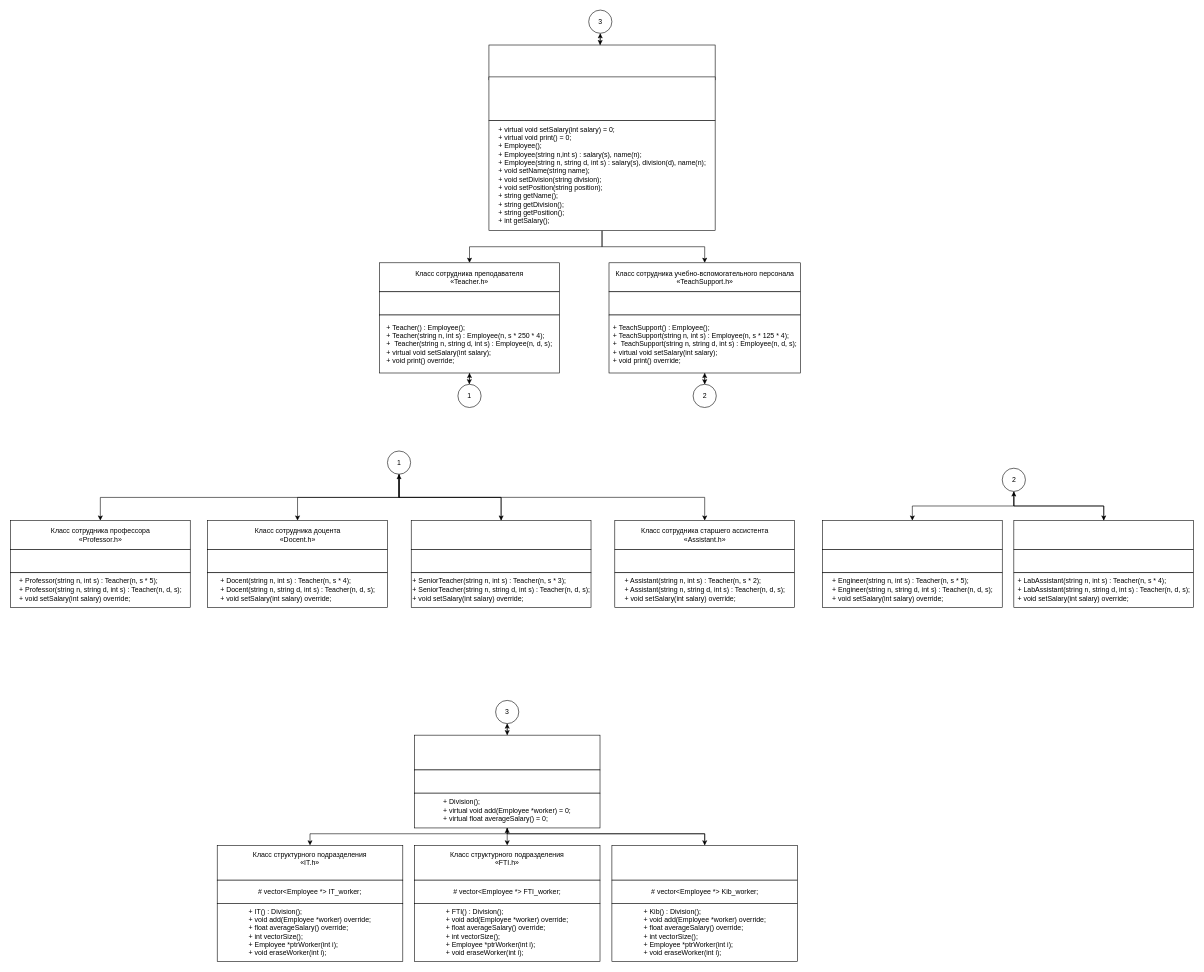
This 1204x972 diagram has some shape labels left out. The shapes that lost their labels are listed below. From the top down, each one's centre as x and y in pixels, then its label:
point 601,62: Чисто виртуальный класс сотрудника «Employee.h»
point 601,98: # string position ; # string name ; # string division ; # int salary ;
point 501,535: Класс сотрудника старшего преподавателя «SeniorTeacher.h»
point 912,535: Класс сотрудника инженера «Engineer.h»
point 1103,535: Класс сотрудника лаборанта «LabAssistant.h»
point 507,752: Чисто виртуальный класс структурного подразделения «Division.h»
point 704,862: Класс структурного подразделения «Kib.h»
